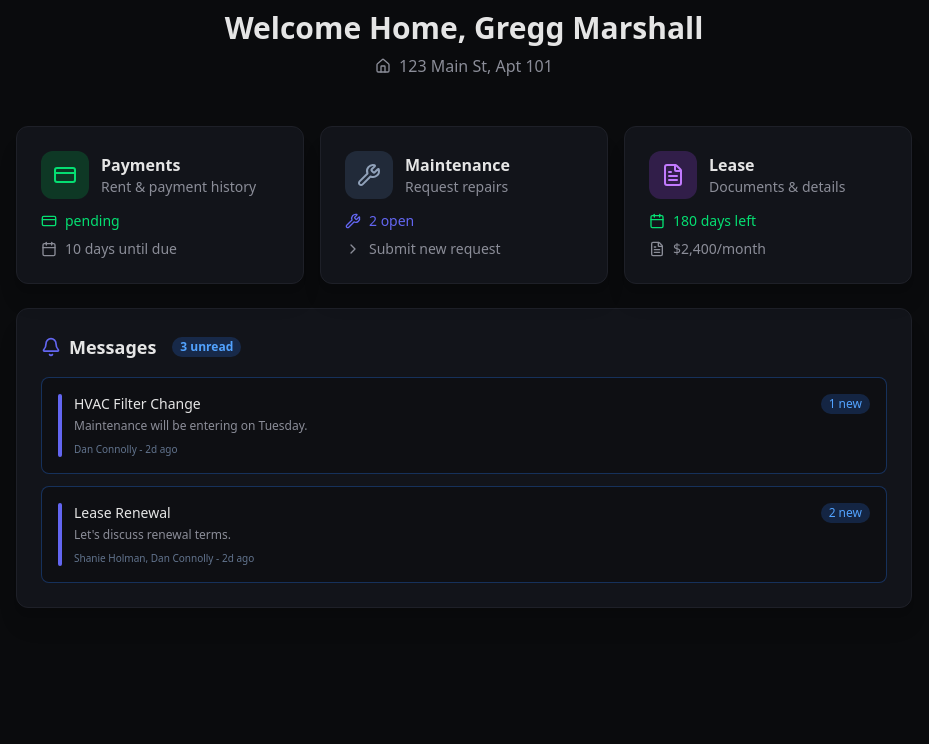
Test: TenantDashboard › Card Interactions › should collapse card when clicked again
The width and height of the screenshot is (929, 744).
Click the button "Payments Rent & payment history pending 10 days until due" at (65, 175), box x1=16 y1=126 x2=304 y2=284
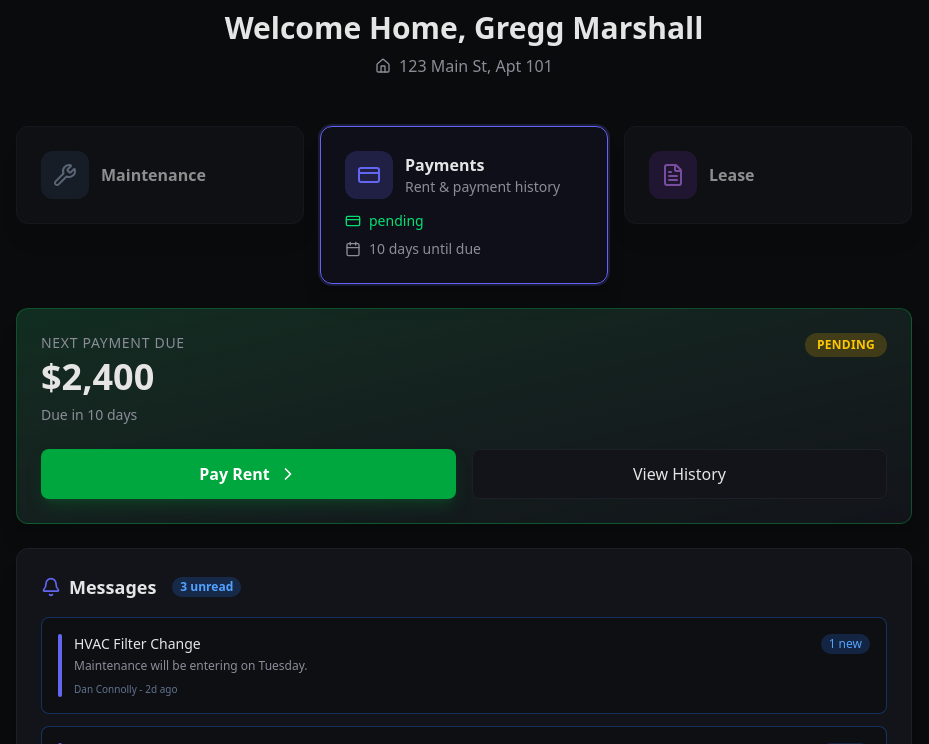
Result: the text "Next Payment Due" is shown at x1=41 y1=333 x2=185 y2=353
Click the button "Payments Rent & payment history pending 10 days until due" at (369, 175), box x1=320 y1=126 x2=608 y2=284
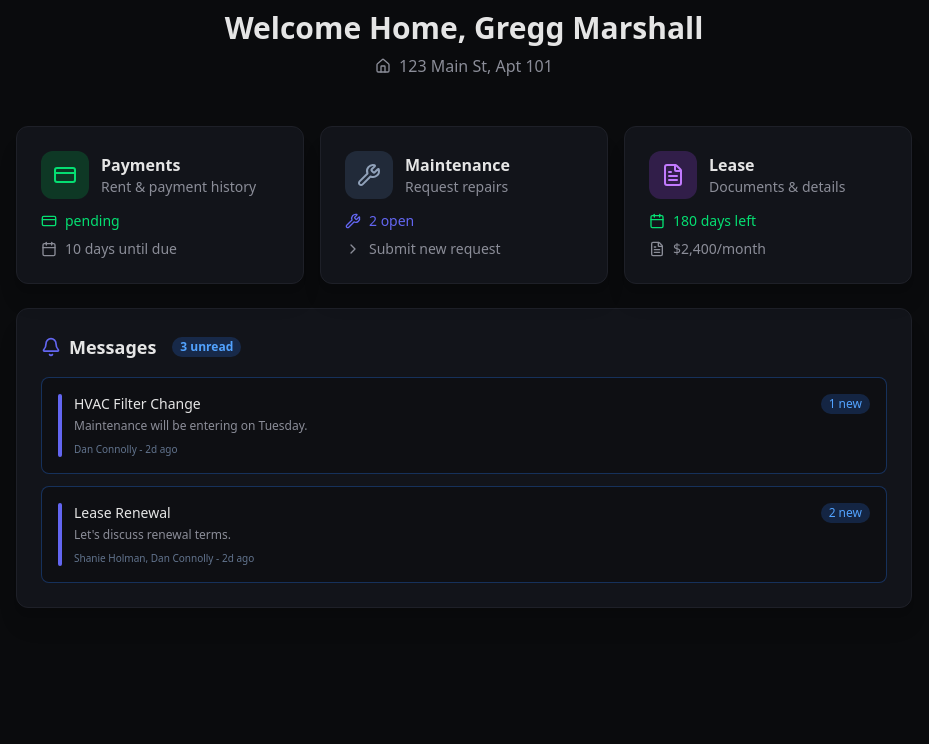
Result: the text "Next Payment Due" is gone
